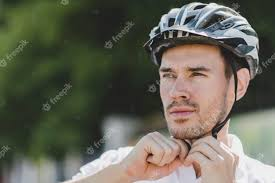helmet: (148, 2, 260, 138)
